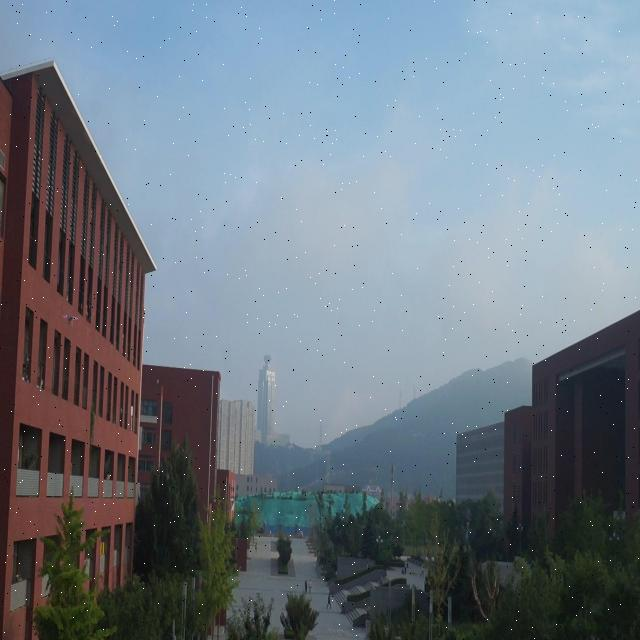UAV: (62, 314, 78, 327)
